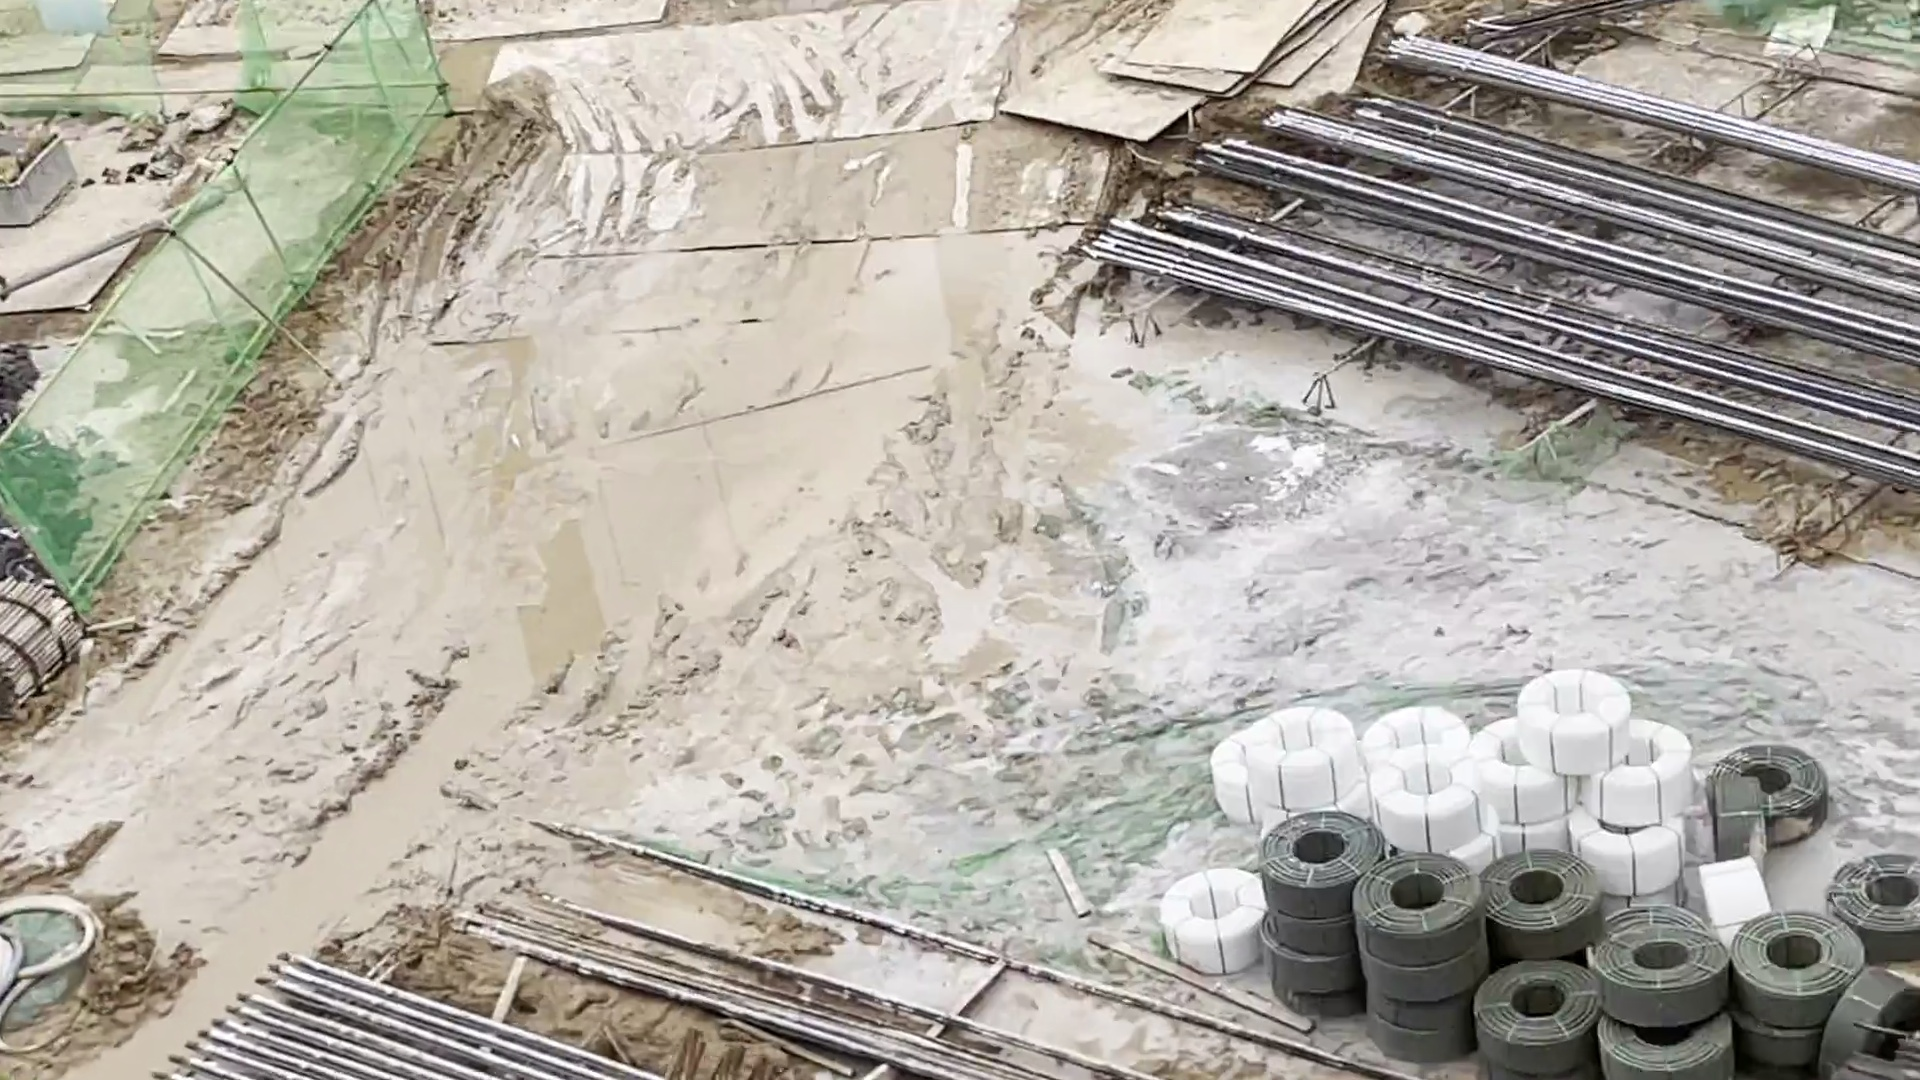rebar: (1199, 73, 1920, 436), (222, 952, 683, 1080)
